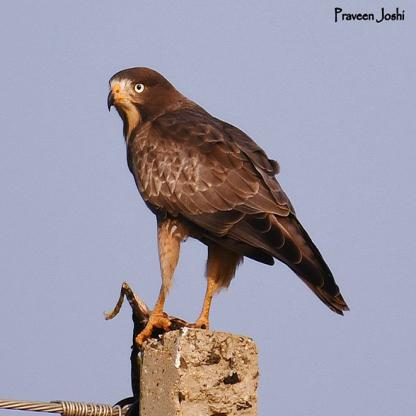Burung: (102, 65, 357, 340)
